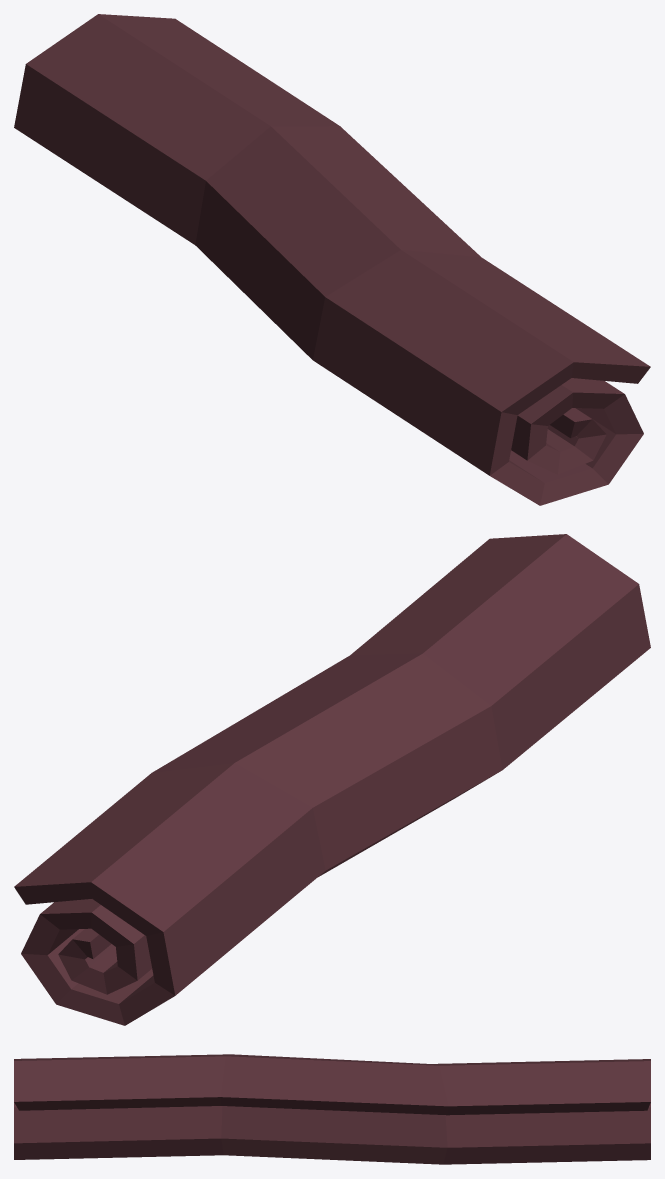
Rendered from carpet-rolled.fbx.
3 renders of one model, top to bottom at view 1: azimuth 30°, elevation 25°; view 2: azimuth 150°, elevation 25°; view 3: azimuth 270°, elevation 25°, orthographic. The views are drawn at different scales.
Parts seen in each view (by area): view 1: carpet-rolled; view 2: carpet-rolled; view 3: carpet-rolled.
Part boxes in pixels (x1,y1,x2,y2): carpet-rolled: (14,14,650,505); carpet-rolled: (14,534,650,1025); carpet-rolled: (14,1054,650,1164).
Size of the model in its own units: 0.3905 by 0.2674 by 1.7.
